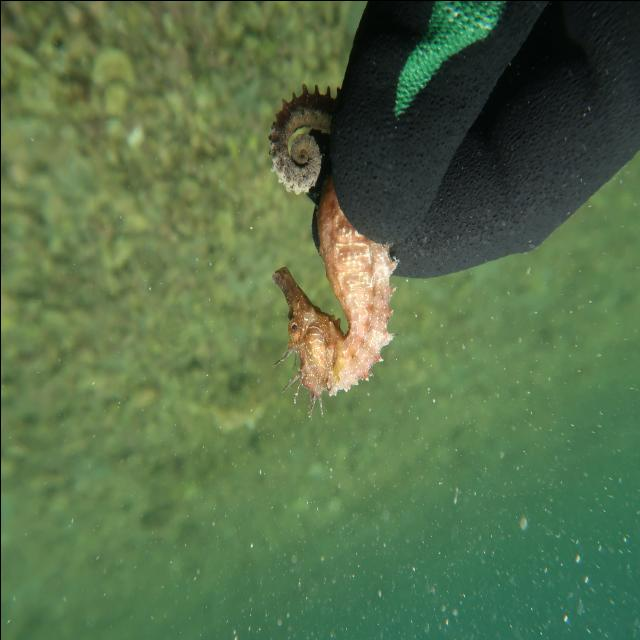Guttu: (263, 257, 346, 405)
